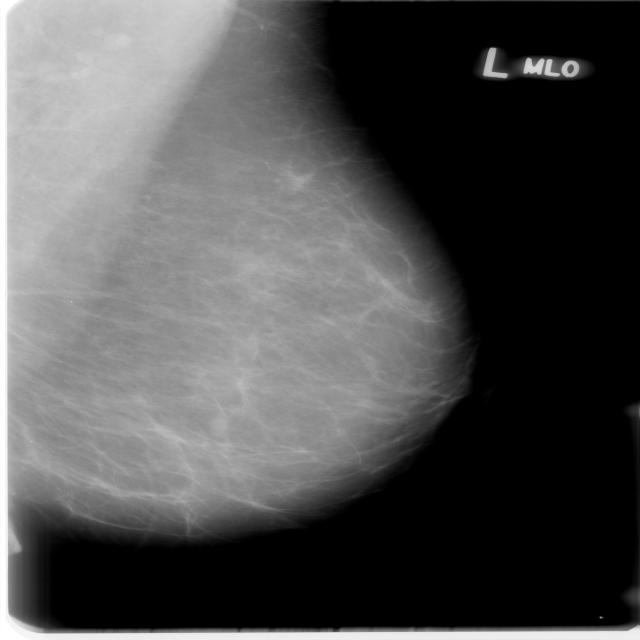normal: (1, 0, 473, 547)
